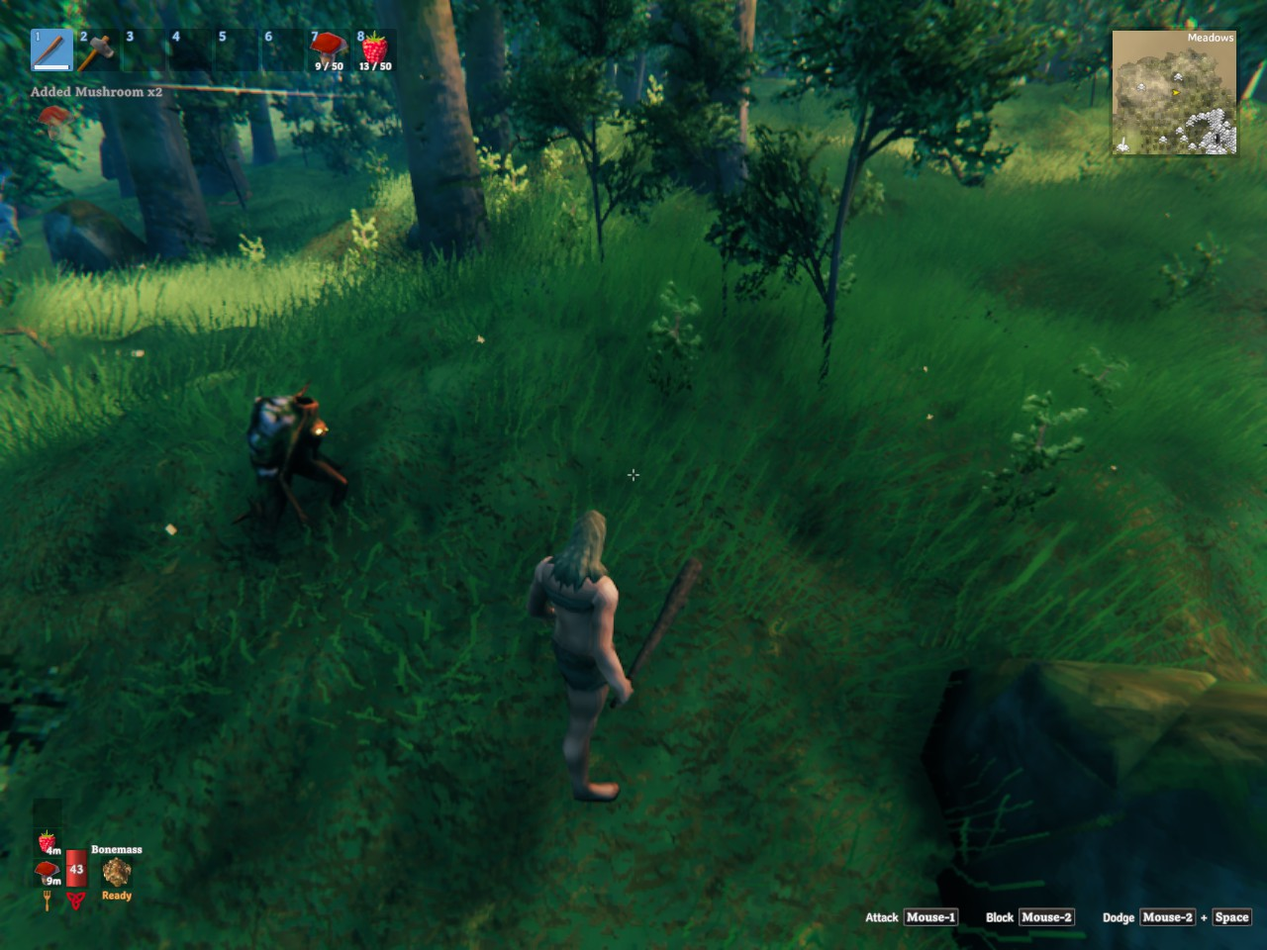Greyling: (246, 384, 346, 525)
